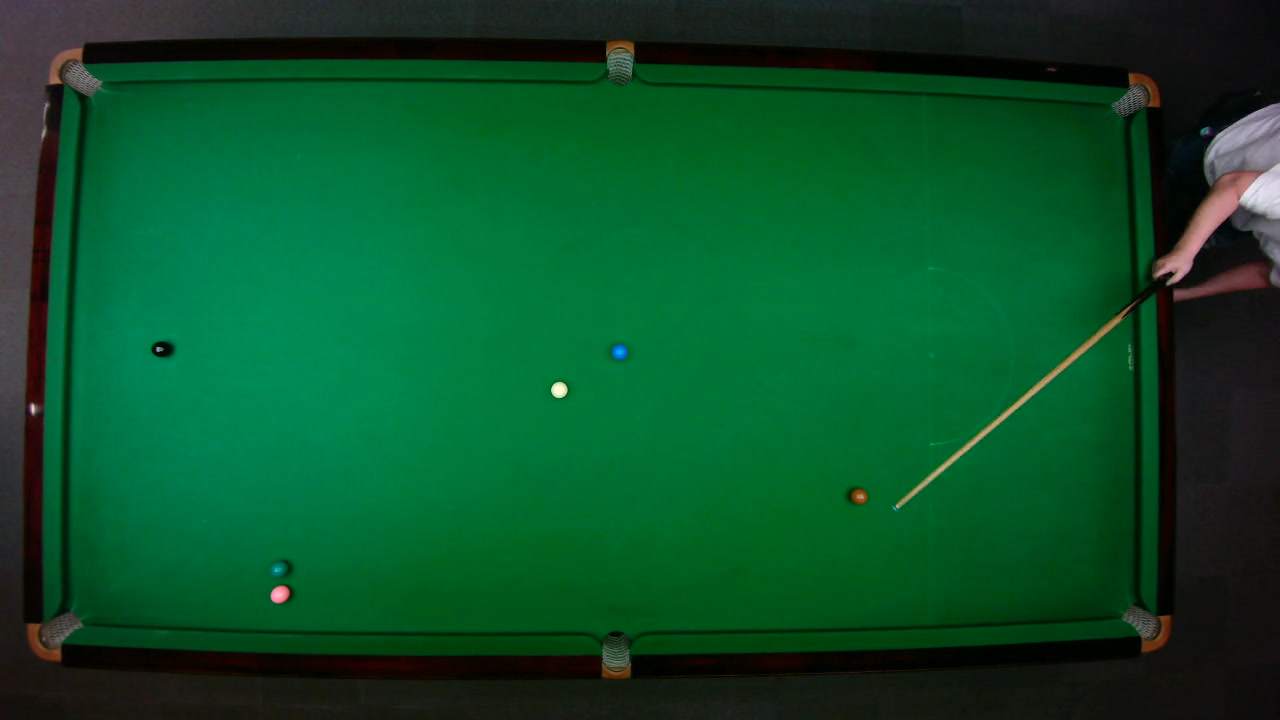bag: (25, 609, 83, 661), (45, 47, 102, 97), (1119, 603, 1171, 651), (1109, 71, 1161, 118), (600, 629, 630, 680), (605, 38, 633, 85)
black: (149, 339, 171, 357)
blue: (610, 343, 628, 360)
brown: (848, 486, 868, 504)
cue: (888, 266, 1176, 516)
green: (269, 559, 289, 576)
pink: (268, 583, 290, 604)
white: (549, 380, 568, 398)
zone: (927, 265, 1015, 451)
